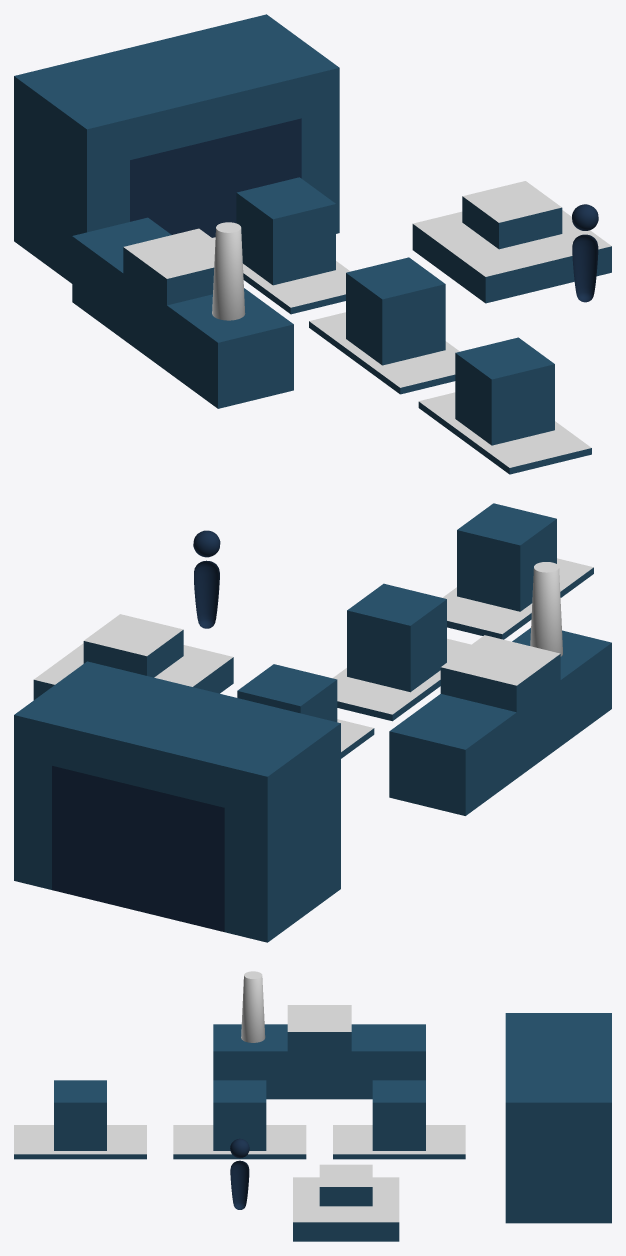
File: cubes_scene_all.gltf
The picture shows the model from 3 angles, top to bottom: view 1: azimuth 30°, elevation 25°; view 2: azimuth 150°, elevation 25°; view 3: azimuth 270°, elevation 25°; orthographic projection. The views are drawn at different scales.
Visible parts, largest first — view 1: Cube, Cube.007, PackageBase.003, Package.001, Package.002, Cube.004, Cube.008, PackageBase.004, PackageBase.002, PackageBase.001, PackageBase.000, Cylinder (+1 smaller); view 2: Cube, Cube.007, Package.001, Package.002, Cube.008, PackageBase.004, Cube.004, PackageBase.003, PackageBase.002, PackageBase.001, Cylinder, Person (+2 smaller); view 3: Cube, Cube.007, PackageBase.003, Cube.004, Package.002, Package.001, PackageBase.000, PackageBase.002, PackageBase.001, Cube.008, PackageBase.004, Cylinder (+1 smaller).
Part boxes in pixels (<box>): Cube: <box>14,14,339,283</box>; Cube.007: <box>72,217,293,408</box>; PackageBase.003: <box>412,210,611,303</box>; Package.001: <box>346,257,445,365</box>; Package.002: <box>455,337,554,445</box>; Cube.004: <box>236,177,335,285</box>; Cube.008: <box>123,228,242,305</box>; PackageBase.004: <box>462,181,562,249</box>; PackageBase.002: <box>418,392,591,474</box>; PackageBase.001: <box>309,312,459,394</box>; PackageBase.000: <box>212,237,350,314</box>; Cylinder: <box>212,222,245,320</box>; Cube: <box>14,661,340,942</box>; Cube.007: <box>389,628,611,815</box>; Package.001: <box>347,583,446,692</box>; Package.002: <box>457,503,556,611</box>; Cube.008: <box>440,635,560,712</box>; PackageBase.004: <box>83,614,183,677</box>; Cube.004: <box>237,664,337,722</box>; PackageBase.003: <box>33,643,233,699</box>; PackageBase.002: <box>442,558,593,639</box>; PackageBase.001: <box>333,638,470,721</box>; Cylinder: <box>530,562,562,656</box>; Person: <box>194,560,219,628</box>; Cube: <box>505,1013,611,1223</box>; Cube.007: <box>213,1024,425,1099</box>; PackageBase.003: <box>293,1177,399,1241</box>; Cube.004: <box>372,1080,425,1150</box>; Package.002: <box>54,1080,106,1150</box>; Package.001: <box>213,1080,266,1150</box>; PackageBase.000: <box>333,1125,465,1159</box>; PackageBase.002: <box>14,1125,146,1159</box>; PackageBase.001: <box>173,1125,306,1159</box>; Cube.008: <box>287,1005,351,1051</box>; PackageBase.004: <box>319,1164,372,1206</box>; Cylinder: <box>241,971,265,1042</box>.
Bounding box in the file's own units: 14.2 × 6.1 × 22.5.
